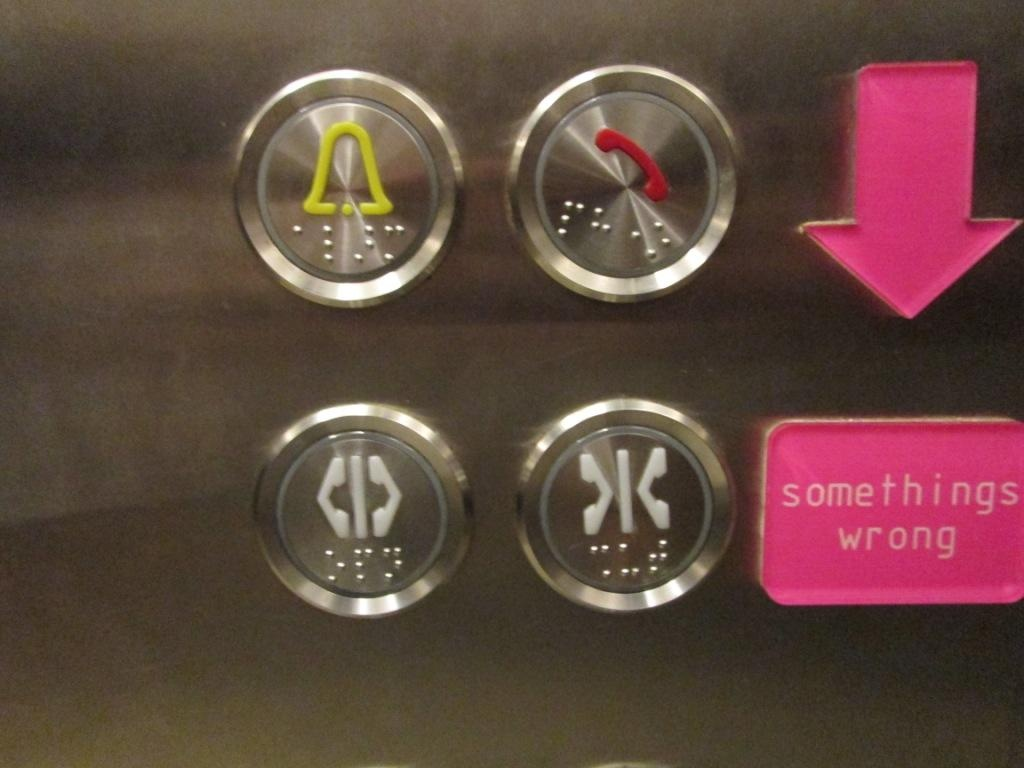alarm: (221, 58, 466, 320)
call: (503, 50, 748, 312)
close: (498, 396, 737, 622)
open: (241, 397, 480, 623)
